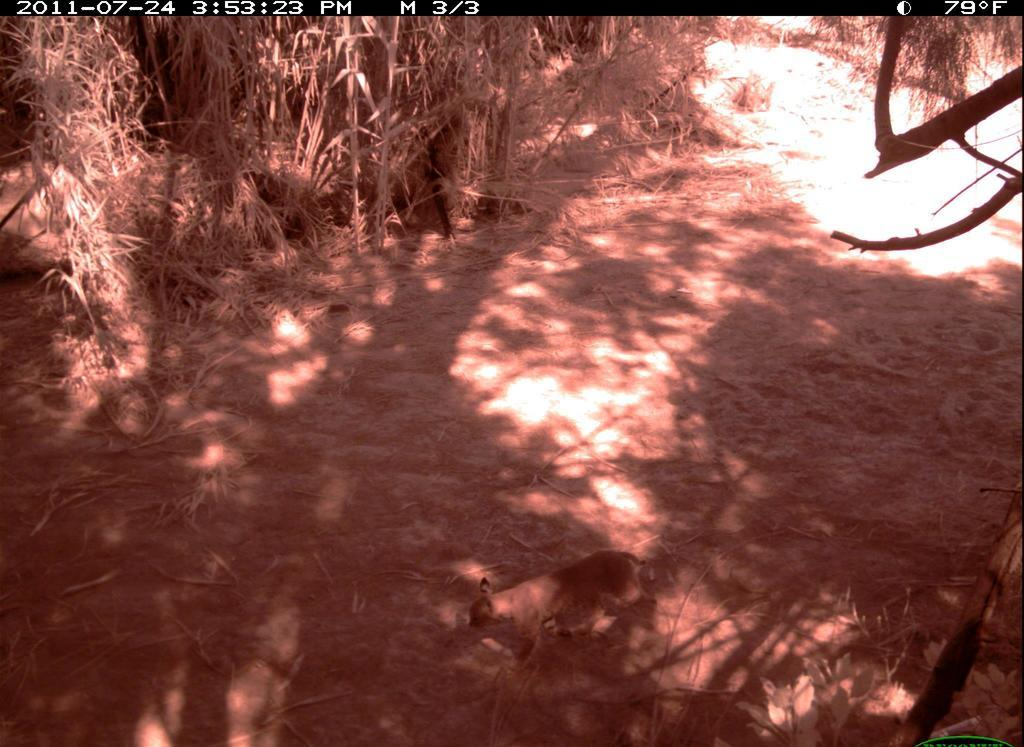bobcat: (463, 540, 674, 674)
